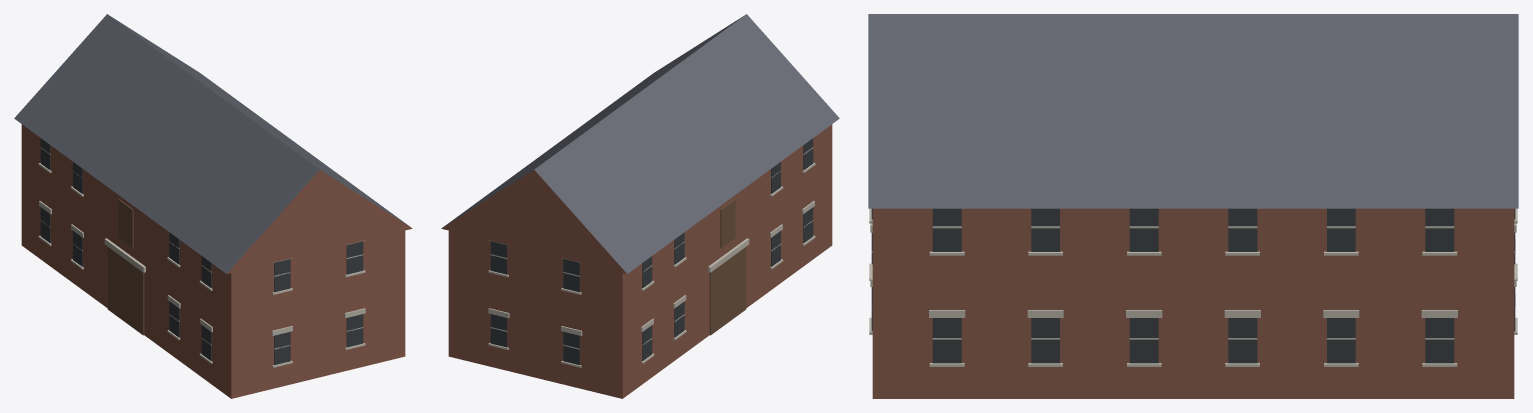
The model's file is house_1922_calumet_coach_house__draft_1904.glb.
The picture shows the model from 3 angles, left to right: view 1: azimuth 30°, elevation 25°; view 2: azimuth 150°, elevation 25°; view 3: azimuth 270°, elevation 25°; orthographic projection. The views are drawn at different scales.
Parts seen in each view (by area): view 1: house_1922_calumet_coach_house__draft_1904; view 2: house_1922_calumet_coach_house__draft_1904; view 3: house_1922_calumet_coach_house__draft_1904.
Part boxes in pixels (x1,y1,x2,y2): house_1922_calumet_coach_house__draft_1904: (14,14,412,398); house_1922_calumet_coach_house__draft_1904: (441,14,839,398); house_1922_calumet_coach_house__draft_1904: (868,14,1518,398).
Bounding box in the file's own units: 9.1 × 9.77 × 17.99.
